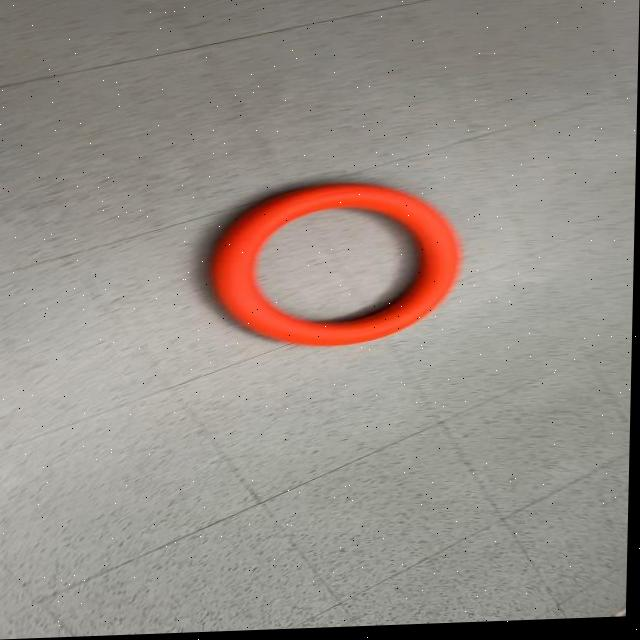note: (208, 180, 468, 354)
